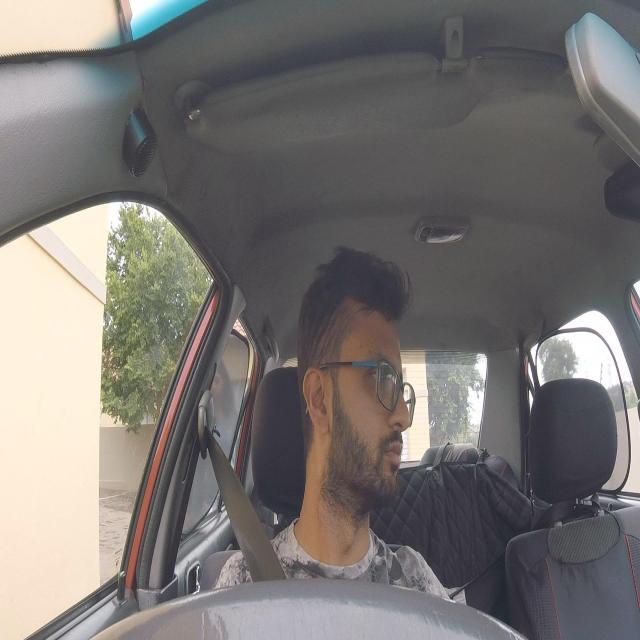open: (365, 343, 396, 405)
